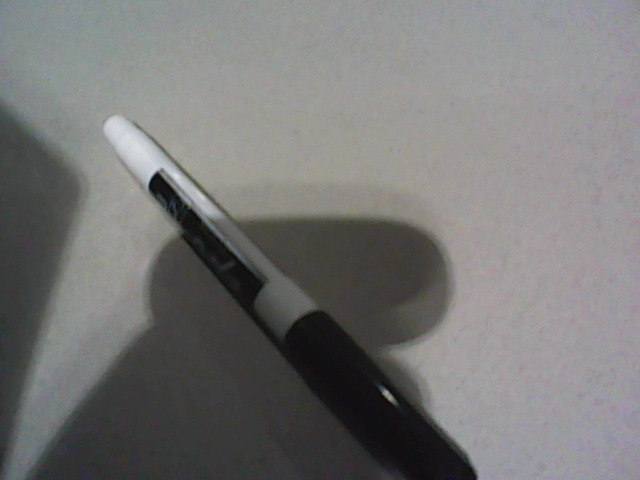marker: (101, 113, 480, 480)
